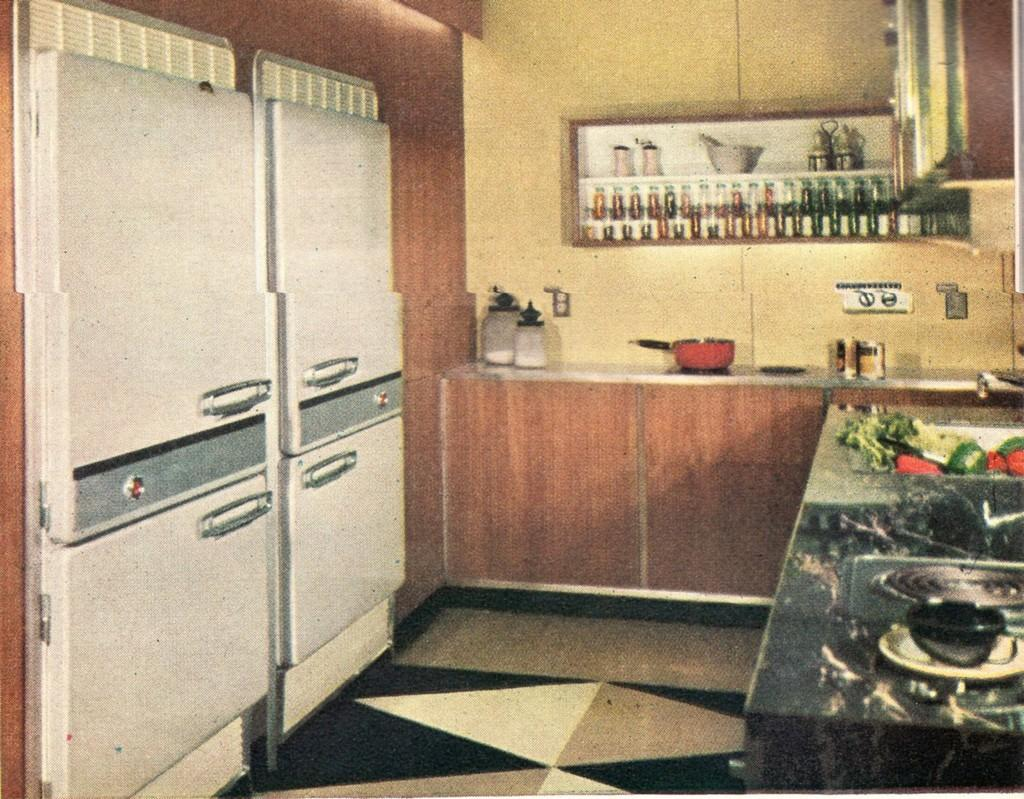handle: (196, 382, 275, 418), (202, 504, 268, 540), (298, 448, 356, 483), (300, 364, 358, 395)
